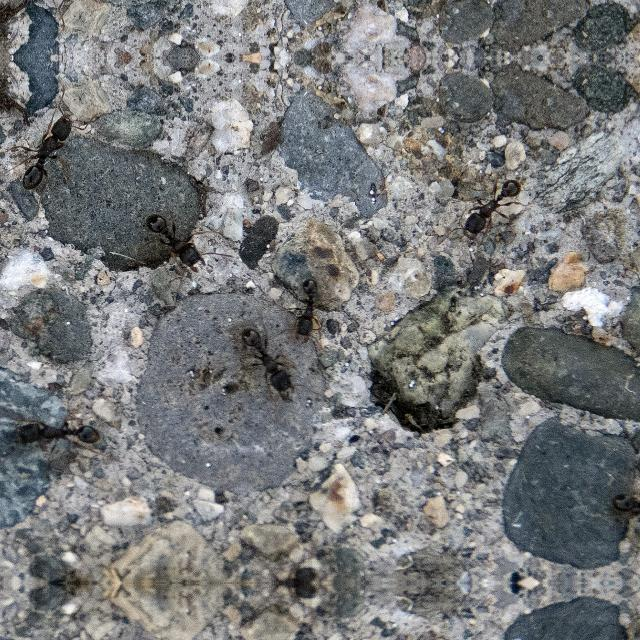Tetramorium: (136, 204, 218, 290), (10, 396, 100, 468), (458, 166, 528, 250), (242, 315, 306, 405), (14, 103, 82, 179), (302, 274, 336, 350)
